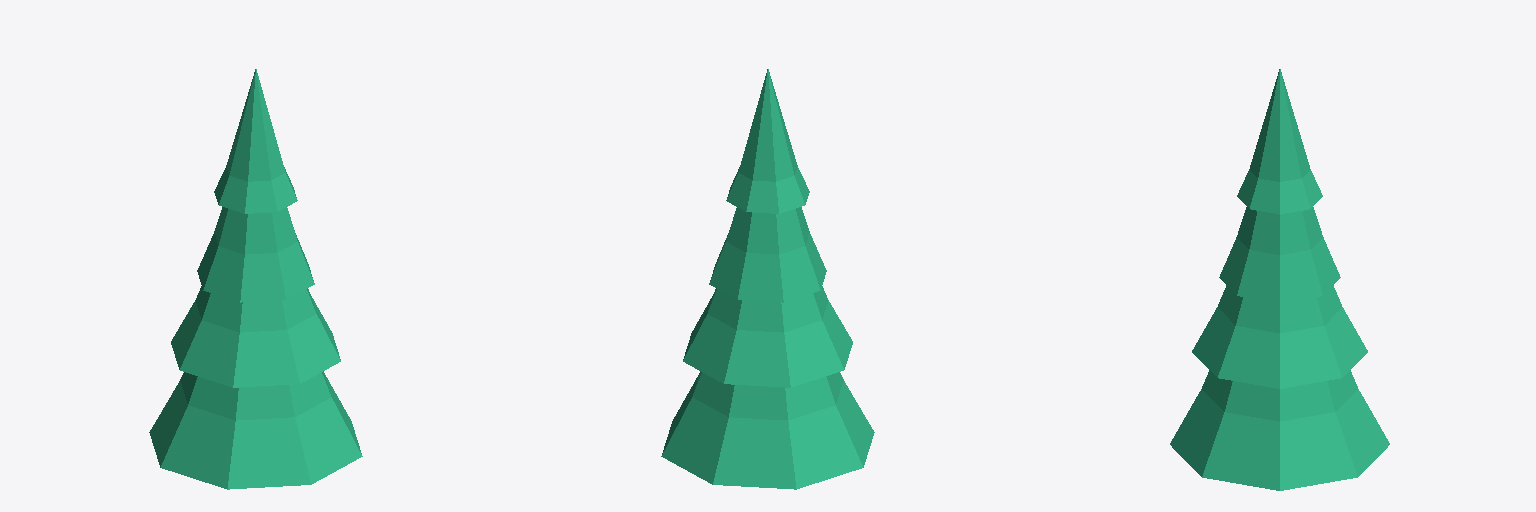
The model's file is tree.foliage.obj.
3 views of the same model, side by side, from view 1: azimuth 30°, elevation 25°; view 2: azimuth 150°, elevation 25°; view 3: azimuth 270°, elevation 25° (orthographic).
Visible parts, largest first — view 1: tree.001; view 2: tree.001; view 3: tree.001.
Boxes of the visible parts, box(x1,y1,x2,y2) form: tree.001: box(149, 69, 362, 489); tree.001: box(661, 69, 874, 489); tree.001: box(1170, 69, 1389, 490).
Bounding box in the file's own units: 1.02 × 1.93 × 1.02.